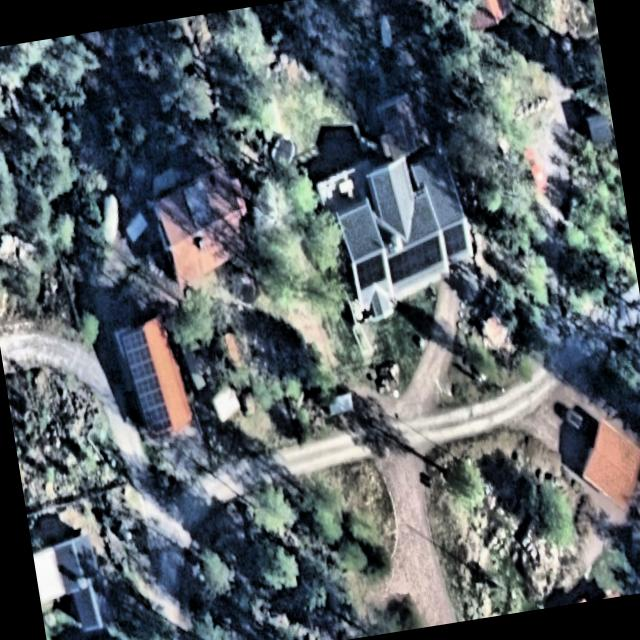roof_pv: (118, 322, 172, 441), (381, 234, 450, 286), (440, 218, 476, 262), (351, 250, 388, 292)
